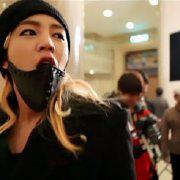WRONG: (5, 18, 69, 101)
